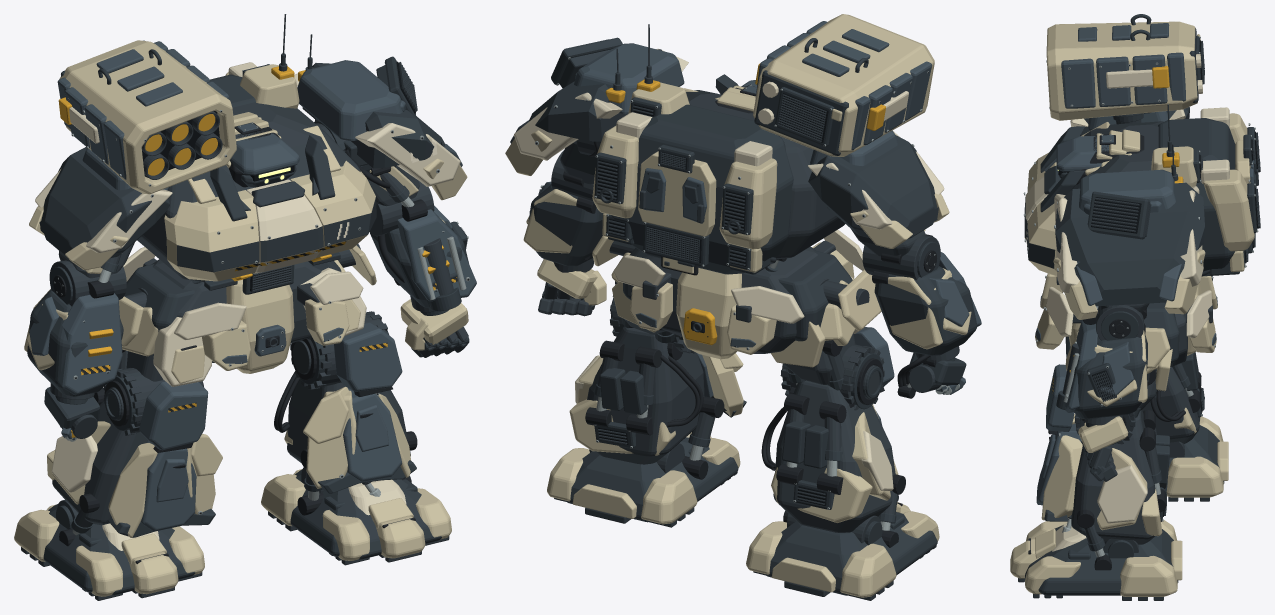
The model's file is bastion-bst04.glb.
3 views of the same model, side by side, from view 1: azimuth 30°, elevation 25°; view 2: azimuth 150°, elevation 25°; view 3: azimuth 270°, elevation 25° (orthographic). The views are drawn at different scales.
Parts seen in each view (by area): view 1: Batch Chest, Batch Shin.R, Batch Launcher.R, Batch Shin.L, Batch Pauldron.L, Batch Foot.L, Batch Foot.R, Batch Forearm.R, Batch Pauldron.R, Batch Pelvis, Batch Forearm.L, Batch Thigh.R (+9 smaller); view 2: Batch Chest, Batch Launcher.R, Batch Shin.R, Batch Shin.L, Batch Pelvis, Batch Foot.R, Batch Pauldron.L, Batch Foot.L, Batch Pauldron.R, Batch Forearm.R, Batch Forearm.L, Batch Thigh.R (+10 smaller); view 3: Batch Pauldron.L, Batch Chest, Batch Launcher.R, Batch Shin.L, Batch Foot.L, Batch Forearm.L, Batch Foot.R, Batch Shin.R, Batch Cockpit, Batch Pelvis, Batch Hand.L, Batch HipArmorFront.L (+4 smaller).
Boxes of the visible parts, x1,y1,x2,y2 form: Batch Chest: [137, 14, 395, 294]; Batch Shin.R: [47, 368, 222, 537]; Batch Launcher.R: [57, 40, 236, 194]; Batch Shin.L: [274, 311, 417, 496]; Batch Pauldron.L: [294, 56, 467, 200]; Batch Foot.L: [261, 467, 451, 565]; Batch Foot.R: [14, 499, 204, 600]; Batch Forearm.R: [24, 260, 126, 404]; Batch Pauldron.R: [29, 147, 172, 270]; Batch Pelvis: [124, 244, 360, 373]; Batch Forearm.L: [369, 180, 476, 315]; Batch Thigh.R: [122, 288, 212, 386]; Batch Chest: [576, 24, 844, 275]; Batch Launcher.R: [753, 14, 934, 156]; Batch Shin.R: [761, 327, 905, 532]; Batch Shin.L: [569, 281, 746, 464]; Batch Pelvis: [609, 240, 869, 359]; Batch Foot.R: [746, 502, 939, 600]; Batch Pauldron.L: [505, 37, 688, 175]; Batch Foot.L: [547, 432, 740, 527]; Batch Pauldron.R: [808, 130, 949, 248]; Batch Forearm.R: [862, 235, 981, 363]; Batch Forearm.L: [523, 150, 603, 272]; Batch Thigh.R: [770, 276, 863, 384]; Batch Pauldron.L: [1053, 169, 1205, 319]; Batch Chest: [1023, 104, 1260, 284]; Batch Launcher.R: [1046, 14, 1204, 122]; Batch Shin.L: [1036, 364, 1169, 544]; Batch Foot.L: [1010, 520, 1182, 600]; Batch Forearm.L: [1056, 305, 1147, 427]; Batch Foot.R: [1164, 416, 1228, 501]; Batch Shin.R: [1065, 336, 1204, 443]; Batch Cockpit: [1056, 129, 1144, 184]; Batch Pelvis: [1068, 276, 1212, 366]; Batch Hand.L: [1078, 416, 1128, 481]; Batch HipArmorFront.L: [1035, 286, 1073, 349].
Size of the model in its own units: 6.06 by 6.87 by 3.37.
